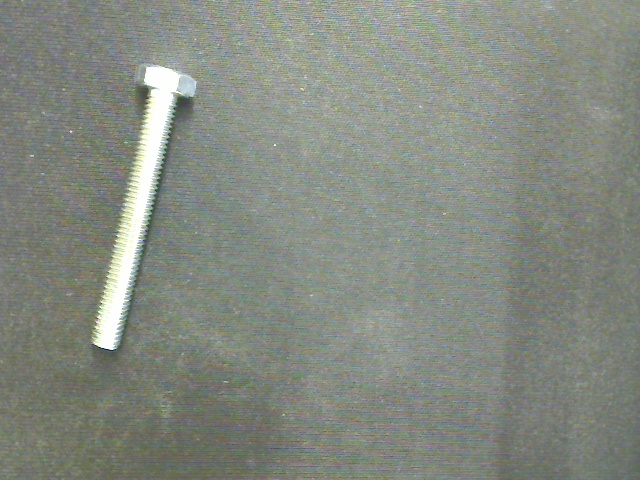screw: (90, 62, 197, 351)
